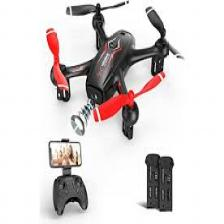drone: (35, 0, 187, 149)
